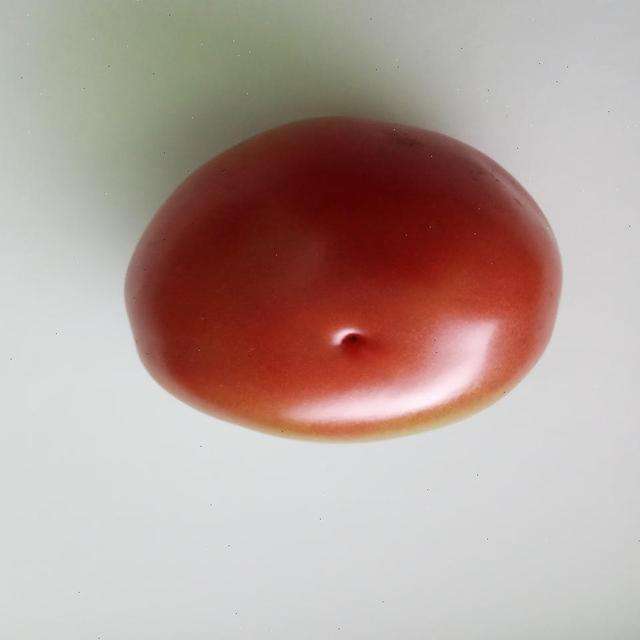Healthy Fruit: (77, 77, 380, 300)
